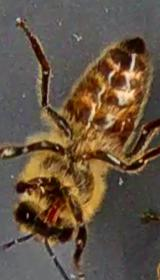varroa_mite: (108, 112, 134, 138)
